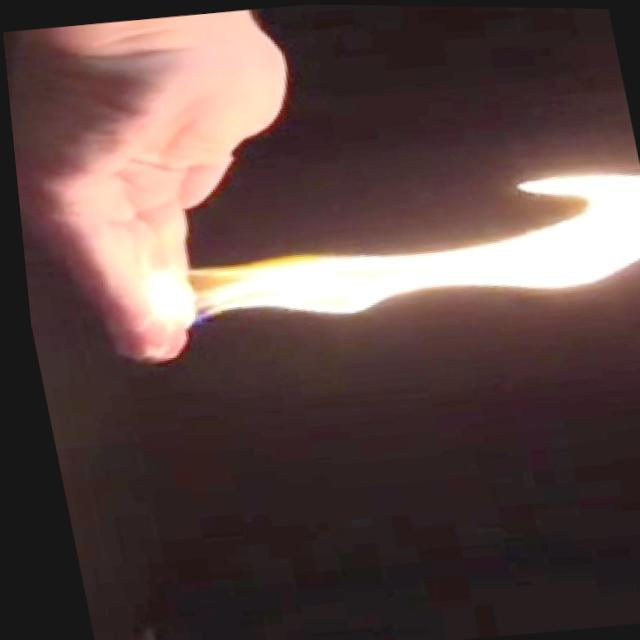helmet: (122, 154, 640, 357)
